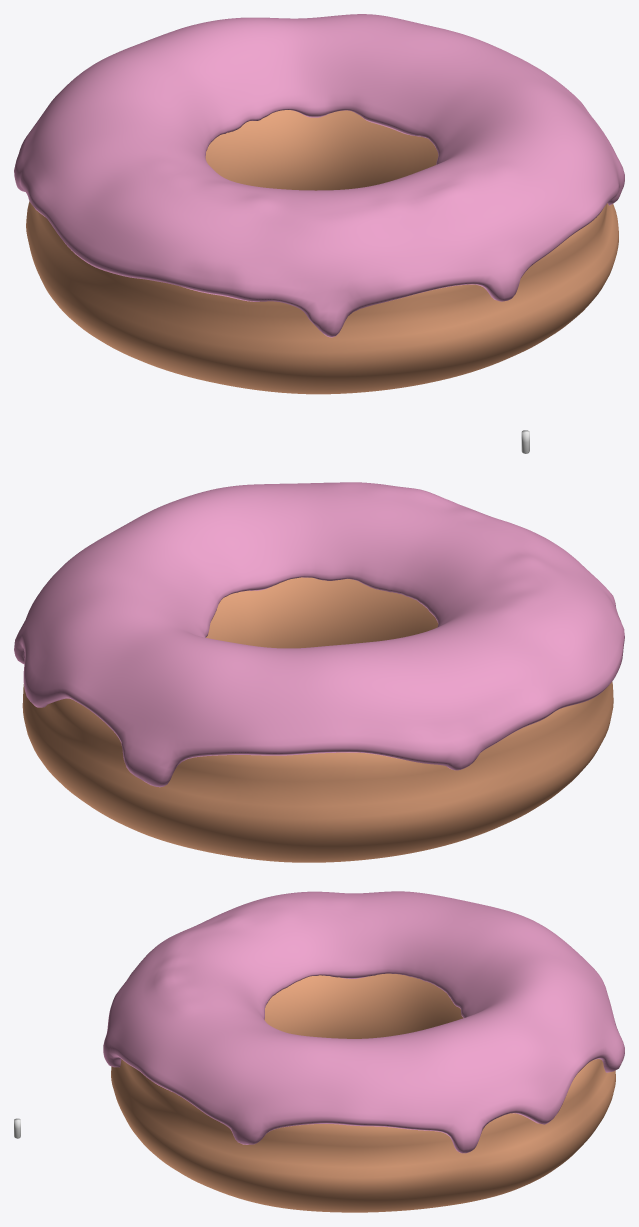
The model's file is donut.glb.
3 views of the same model, one above another, from view 1: azimuth 30°, elevation 25°; view 2: azimuth 150°, elevation 25°; view 3: azimuth 270°, elevation 25° (orthographic). The views are drawn at different scales.
Visible parts, largest first — view 1: Icing, Donut; view 2: Icing, Donut; view 3: Icing, Donut.
Boxes of the visible parts, <box> form: Icing: <box>14,14,624,337</box>; Donut: <box>26,110,618,394</box>; Icing: <box>14,482,624,787</box>; Donut: <box>22,577,613,862</box>; Icing: <box>103,891,624,1153</box>; Donut: <box>111,973,615,1212</box>.
Size of what is drawn, in the model's own units: 0.1456 by 0.0539 by 0.1729.
